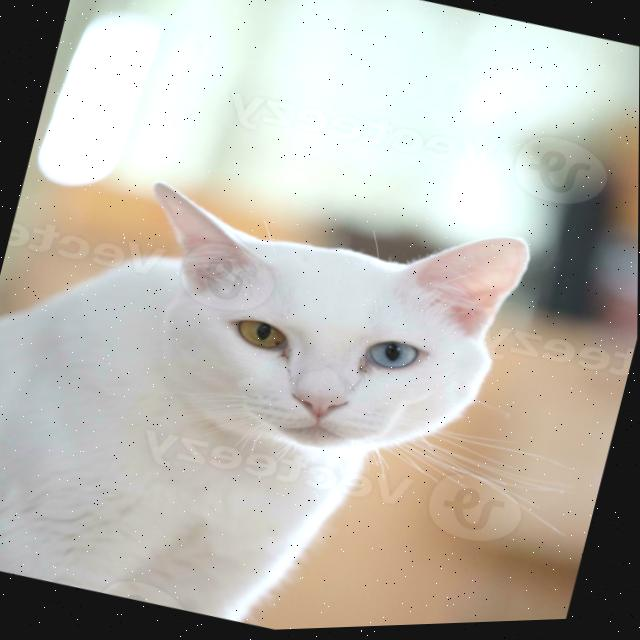Khao Manee: (0, 117, 547, 640)
